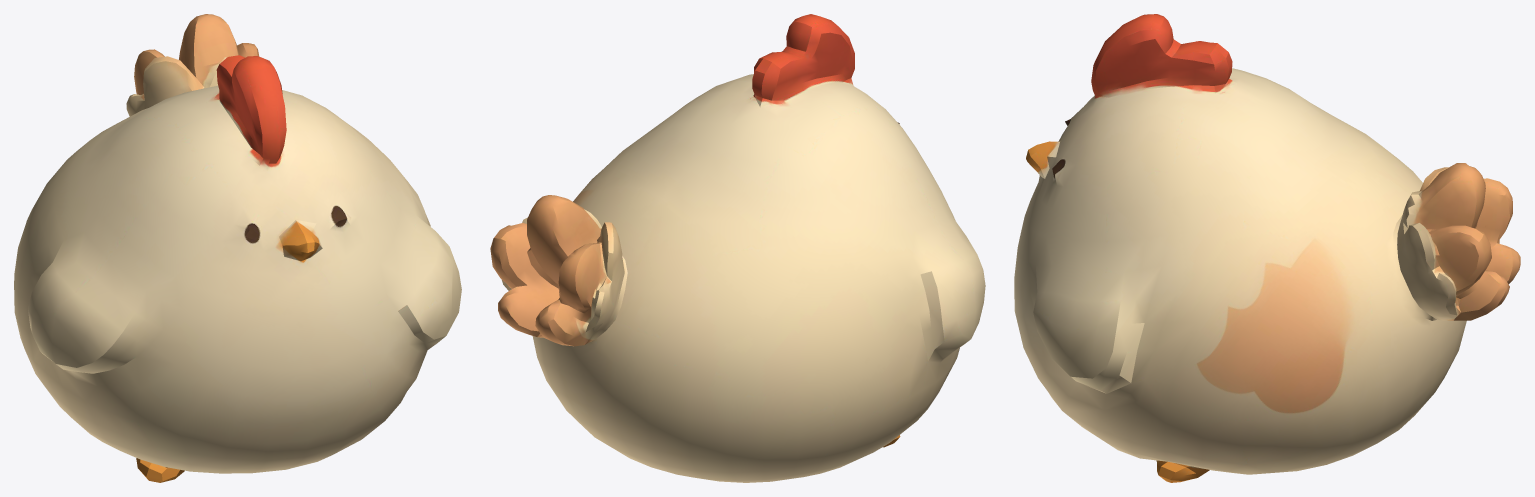
Rendered from Animal_Chicken_01.glb.
3 views of the same model, side by side, from view 1: azimuth 30°, elevation 25°; view 2: azimuth 150°, elevation 25°; view 3: azimuth 270°, elevation 25° (orthographic). The views are drawn at different scales.
Visible parts, largest first — view 1: Animal_Chicken_01.001; view 2: Animal_Chicken_01.001; view 3: Animal_Chicken_01.001.
Boxes of the visible parts, x1=… form: Animal_Chicken_01.001: x1=14, y1=14, x2=461, y2=482; Animal_Chicken_01.001: x1=490, y1=14, x2=985, y2=482; Animal_Chicken_01.001: x1=1014, y1=14, x2=1520, y2=482.
Size of the model in its own units: 0.8981 by 0.8951 by 1.
Materials: 1 (1 with a texture image).
